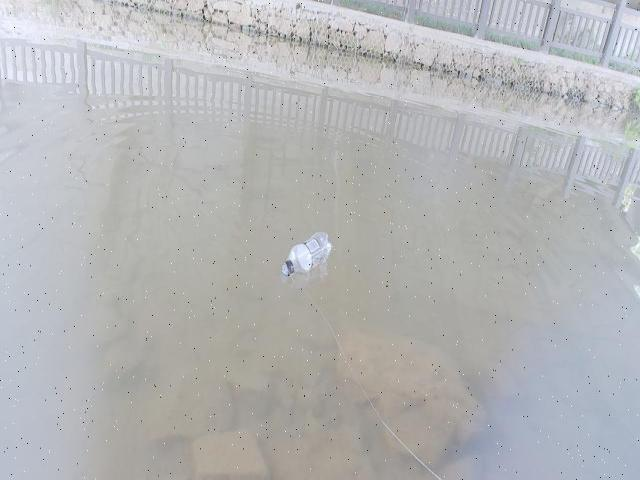Bottle: (278, 228, 340, 278)
